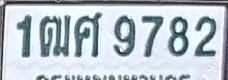1: (16, 13, 31, 58)
2: (194, 15, 216, 56)
7: (141, 15, 163, 57)
8: (167, 15, 188, 56)
9: (113, 14, 135, 56)
A18: (39, 14, 71, 57)
A38: (74, 12, 102, 58)
